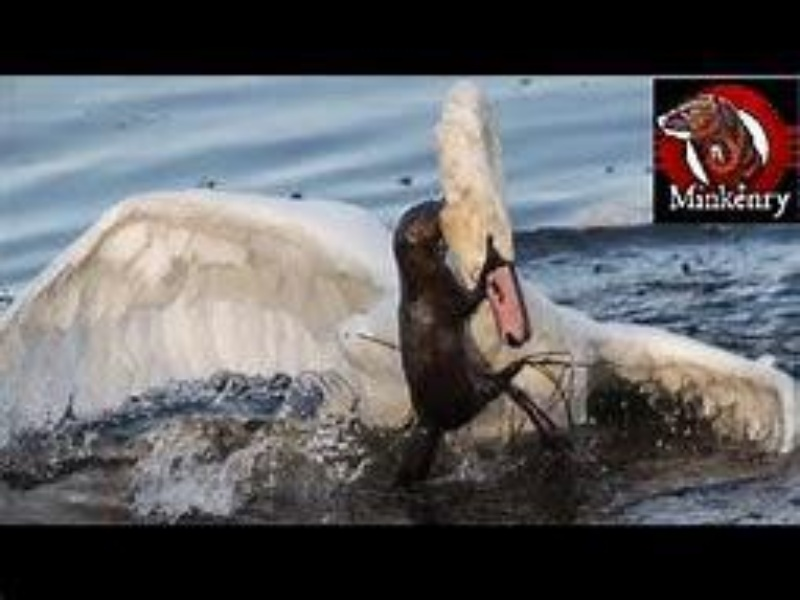minkish: (383, 195, 552, 438)
